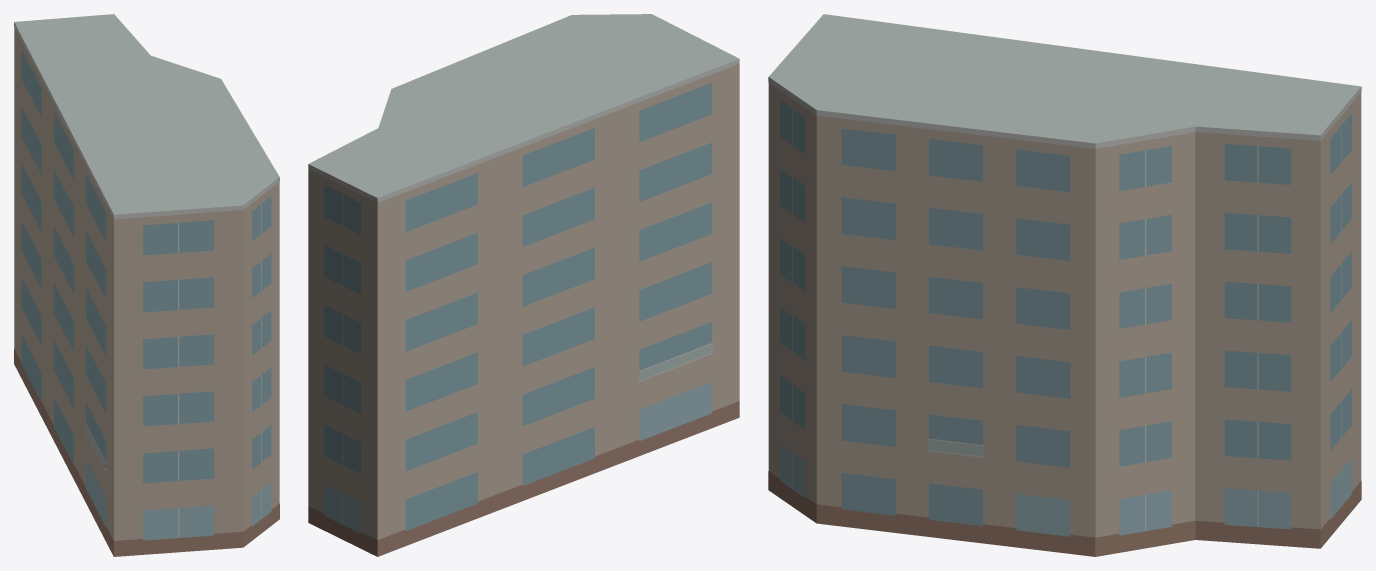
File: survey-upis-32874284.glb
3 views of the same model, side by side, from view 1: azimuth 30°, elevation 25°; view 2: azimuth 150°, elevation 25°; view 3: azimuth 270°, elevation 25° (orthographic). The views are drawn at different scales.
Parts seen in each view (by area): view 1: survey-upis-32874284.tmp; view 2: survey-upis-32874284.tmp; view 3: survey-upis-32874284.tmp.
Part boxes in pixels (<box>): survey-upis-32874284.tmp: <box>14,14,279,556</box>; survey-upis-32874284.tmp: <box>308,14,739,556</box>; survey-upis-32874284.tmp: <box>768,14,1361,556</box>.
Bounding box in the file's own units: 12.17 × 18.1 × 23.54.
